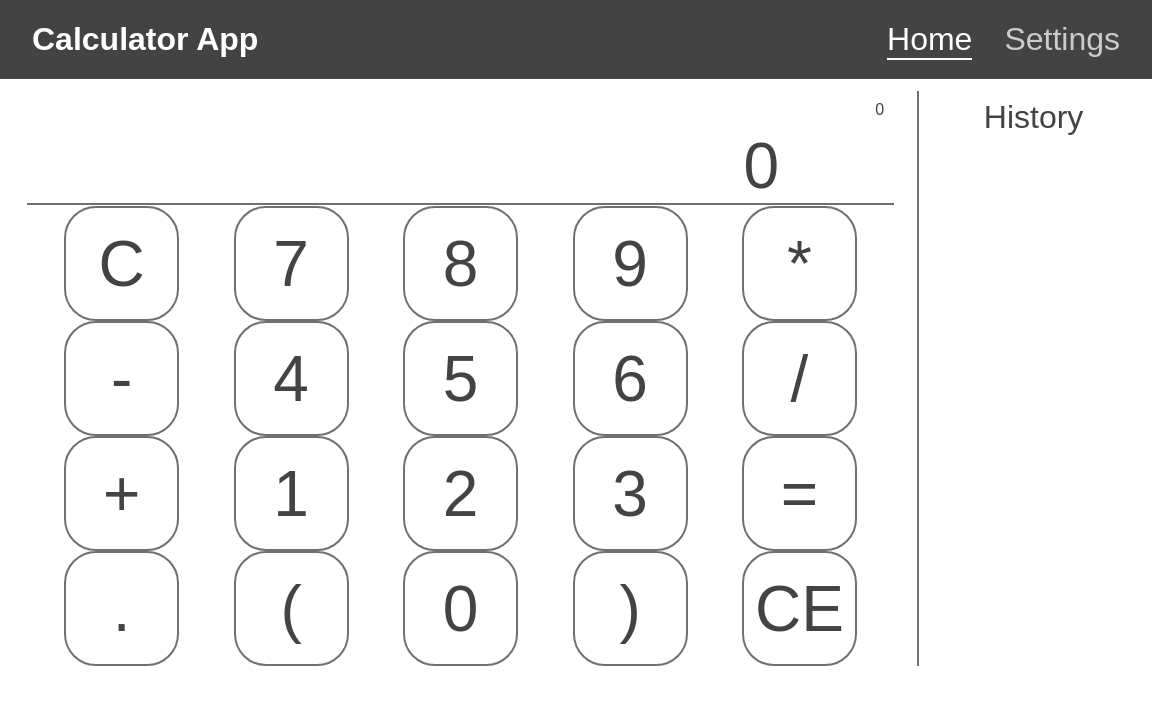
App E2E › div - should return 0.333
What coordinates should you click on to do the following:
click the button "1"
I would click on:
 (292, 494)
Its box is [234,436,349,551].
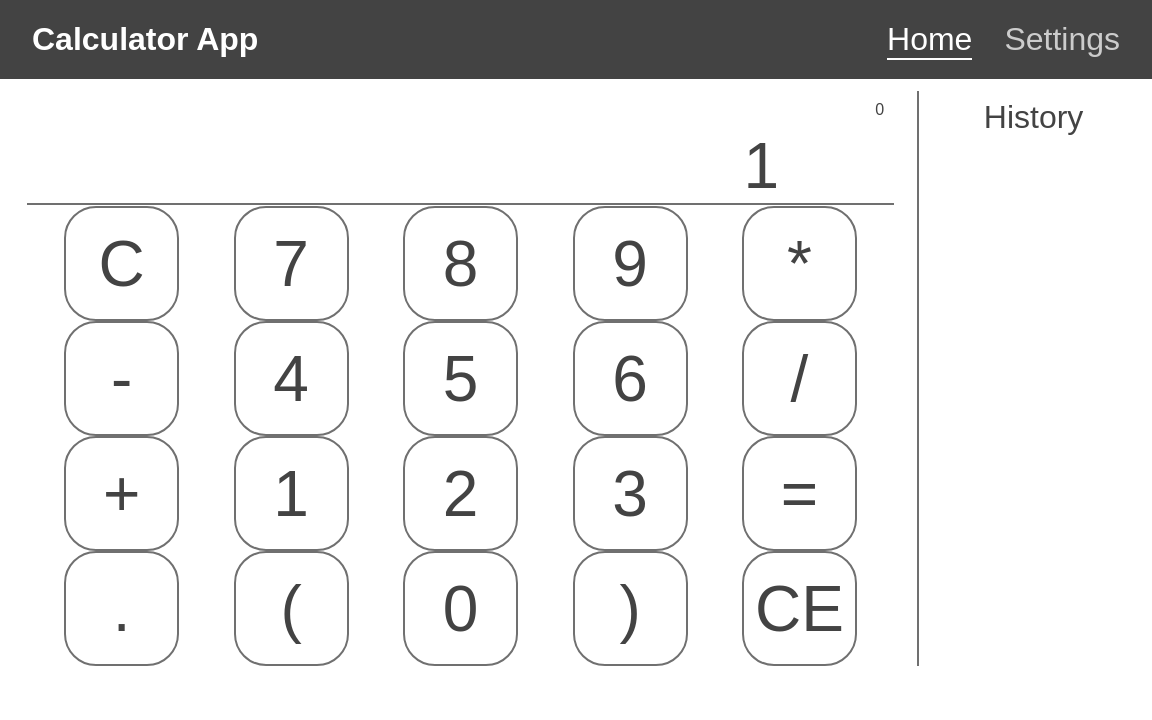
What coordinates should you click on to do the following:
click the button "/"
I would click on:
 (800, 379)
Its box is [742,321,857,436].
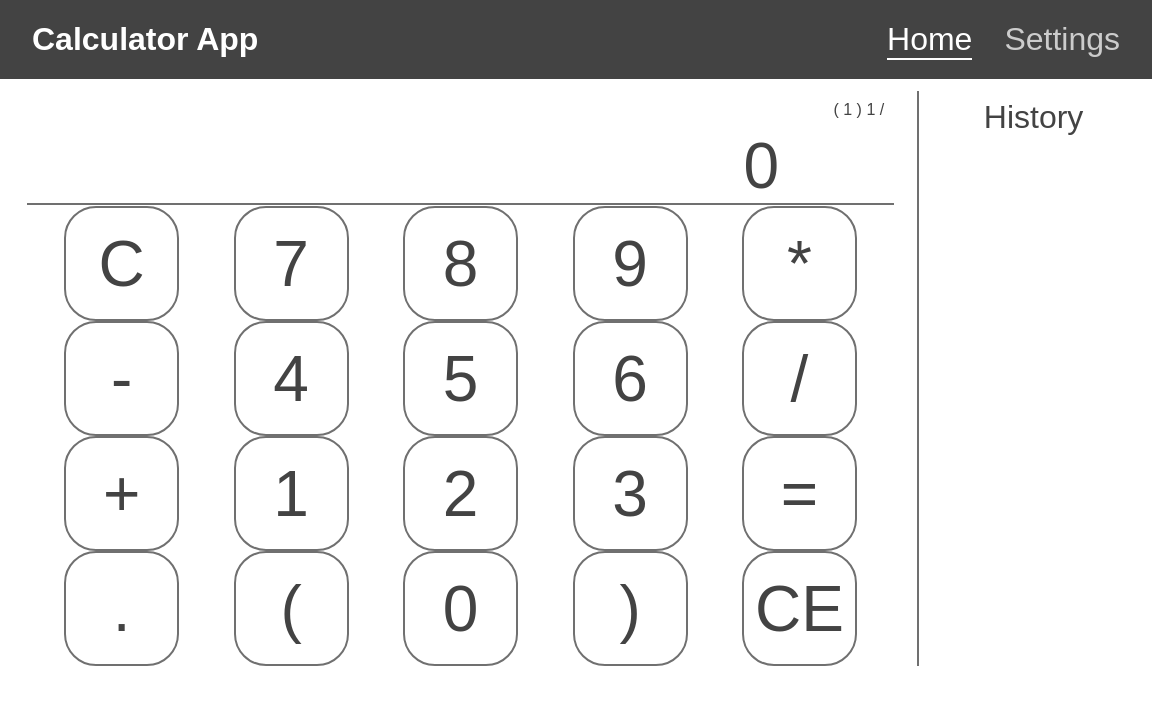
What coordinates should you click on to do the following:
click the button "3"
I would click on:
 (631, 494)
Its box is [573,436,688,551].
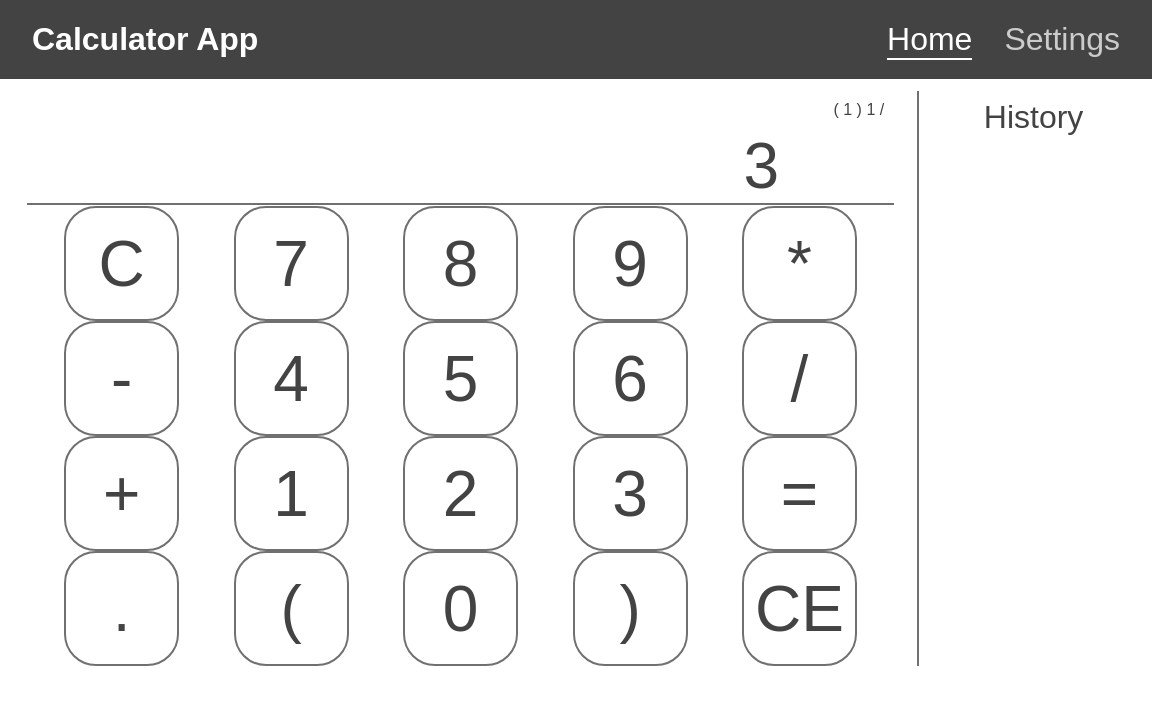
What coordinates should you click on to do the following:
click the button "="
I would click on:
 (800, 494)
Its box is [742,436,857,551].
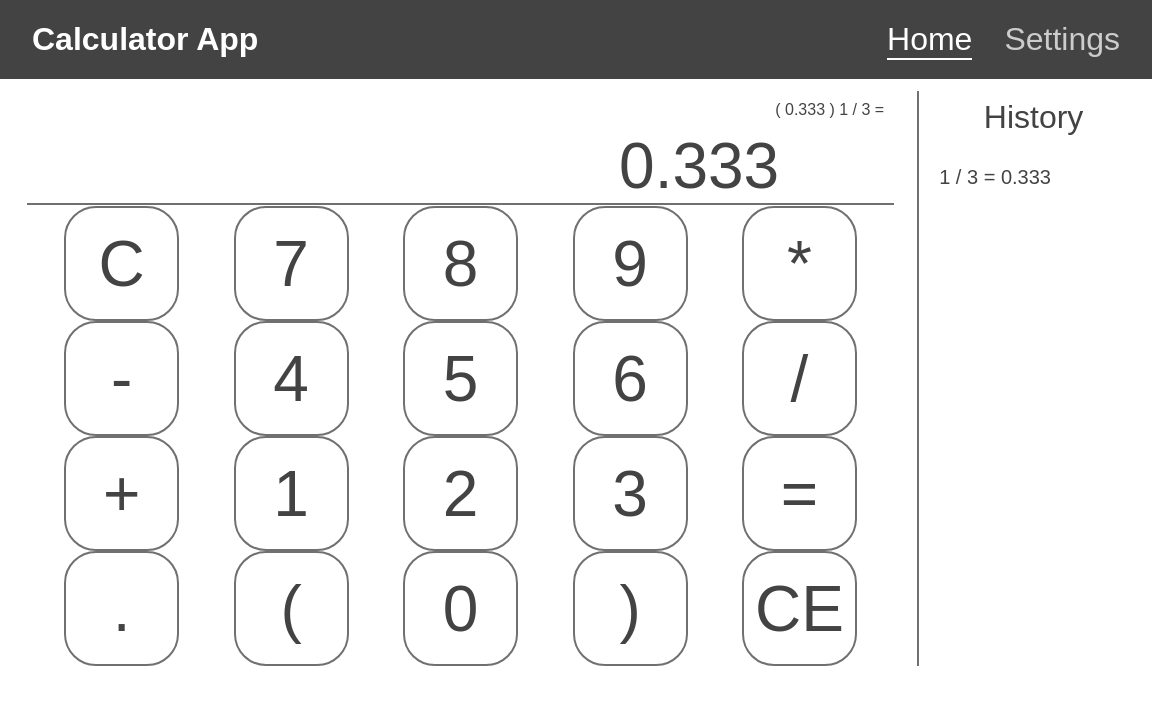
Now the field holds "0.333", box [27,129,894,205]
